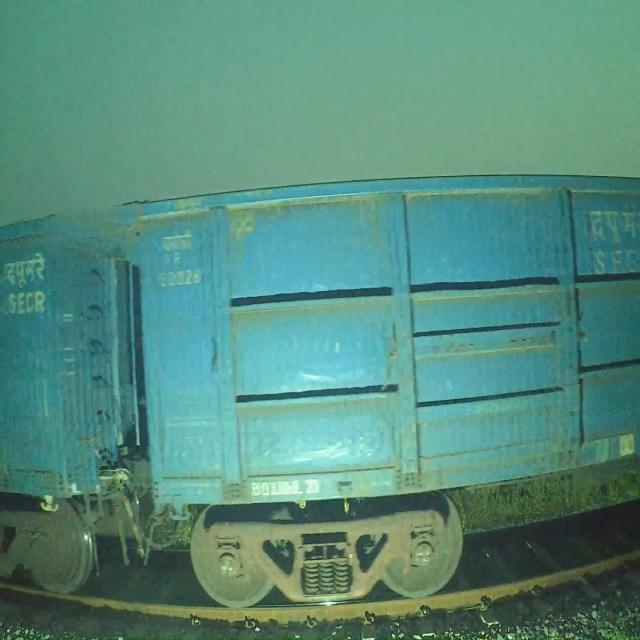WAgon-uic: (112, 170, 640, 605), (0, 209, 180, 598)
